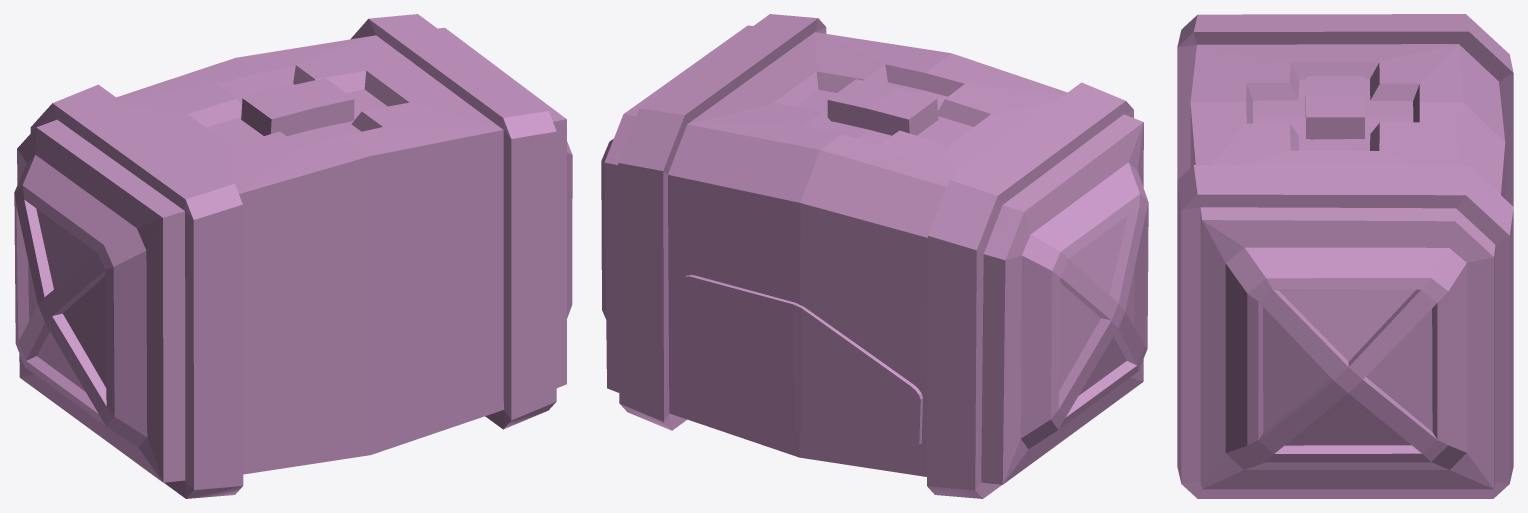
3 views of the same model, side by side, from view 1: azimuth 30°, elevation 25°; view 2: azimuth 150°, elevation 25°; view 3: azimuth 270°, elevation 25° (orthographic). The views are drawn at different scales.
Visible parts, largest first — view 1: Box; view 2: Box; view 3: Box.
Boxes of the visible parts, left/top/right/bottom form: Box: left=14, top=14, right=572, bottom=498; Box: left=601, top=14, right=1148, bottom=498; Box: left=1177, top=14, right=1513, bottom=498.
Bounding box in the file's own units: 93.96 × 56.43 × 53.98.
